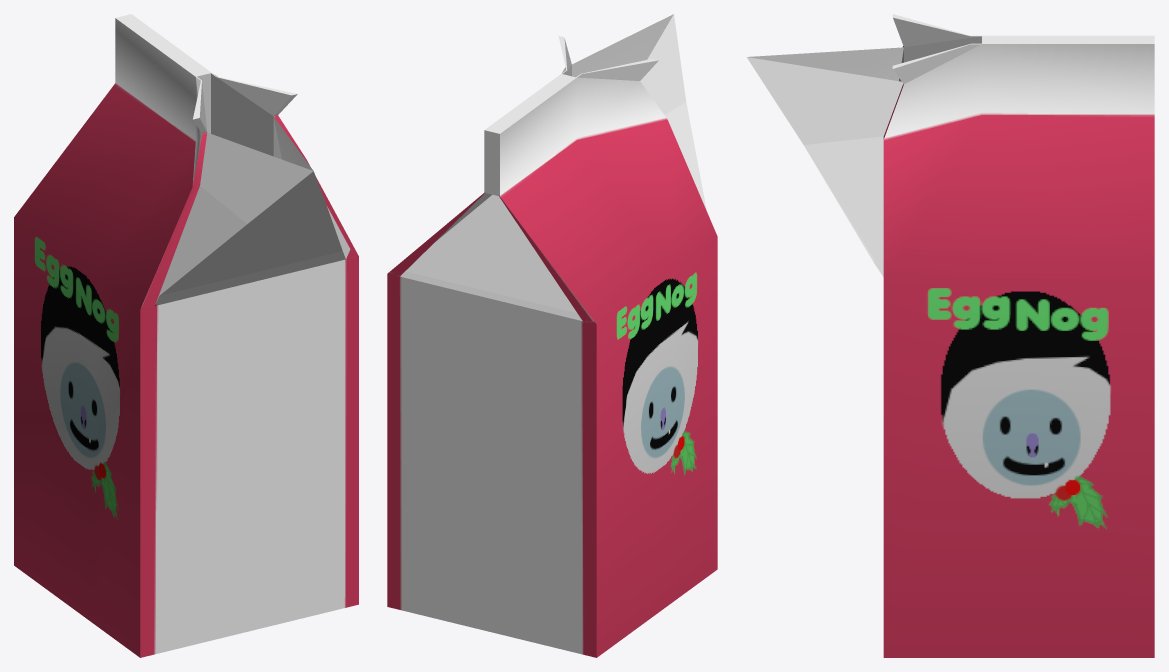
Rendered from Carton.fbx.
The picture shows the model from 3 angles, left to right: view 1: azimuth 30°, elevation 25°; view 2: azimuth 150°, elevation 25°; view 3: azimuth 270°, elevation 25°; orthographic projection. The views are drawn at different scales.
Parts seen in each view (by area): view 1: Carton_01; view 2: Carton_01; view 3: Carton_01.
Boxes of the visible parts, left/top/right/bottom form: Carton_01: left=14, top=14, right=358, bottom=657; Carton_01: left=387, top=14, right=717, bottom=657; Carton_01: left=746, top=14, right=1154, bottom=657.
Size of the model in its own units: 50 by 114 by 75.34.
